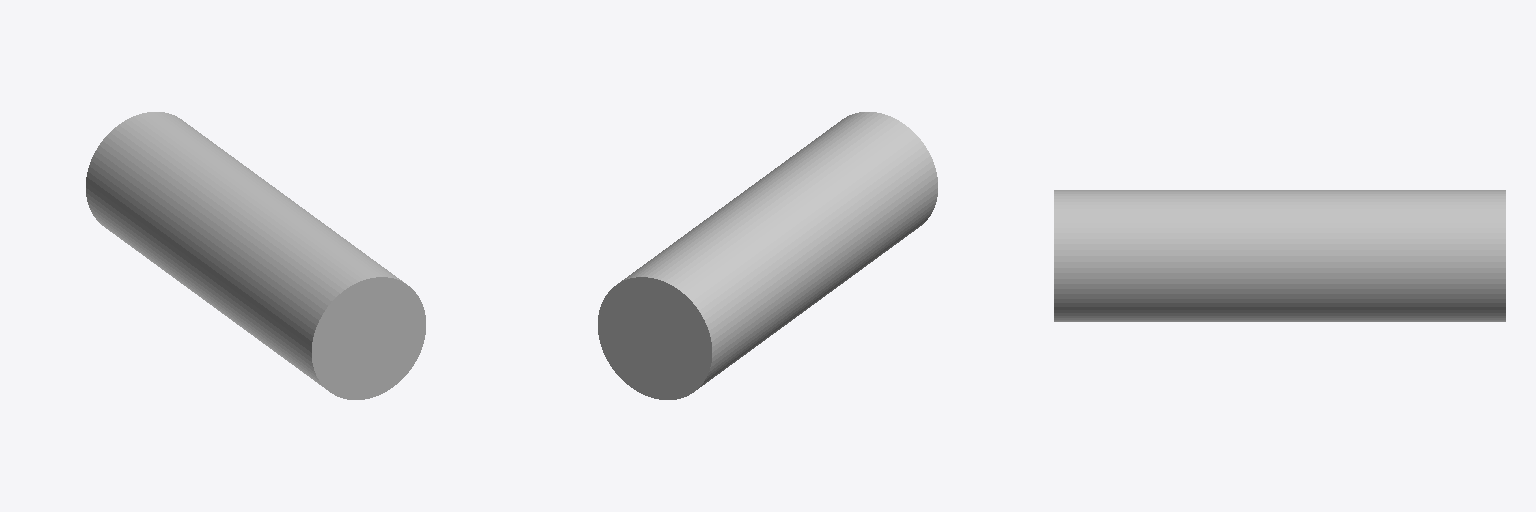
File: HGTD_PositiveEndcap_boundaries.obj
3 views of the same model, side by side, from view 1: azimuth 30°, elevation 25°; view 2: azimuth 150°, elevation 25°; view 3: azimuth 270°, elevation 25° (orthographic).
Size of the model in its own units: 2040 by 2040 by 6960.